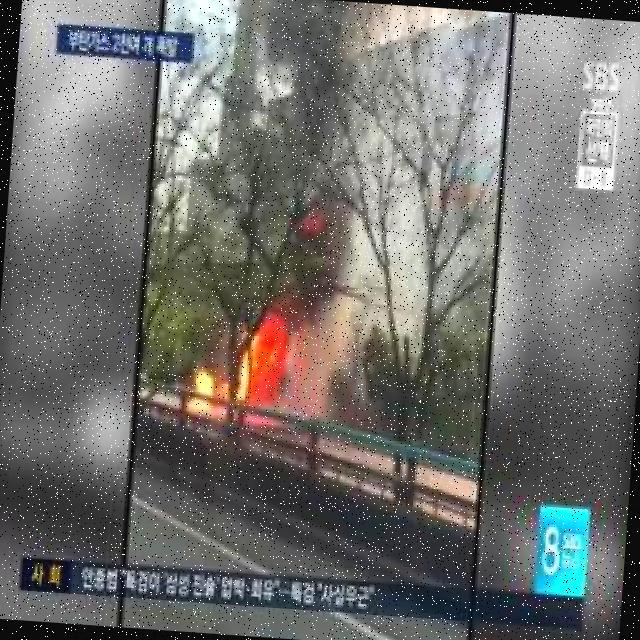Fire: (236, 314, 295, 416), (189, 371, 223, 423)
